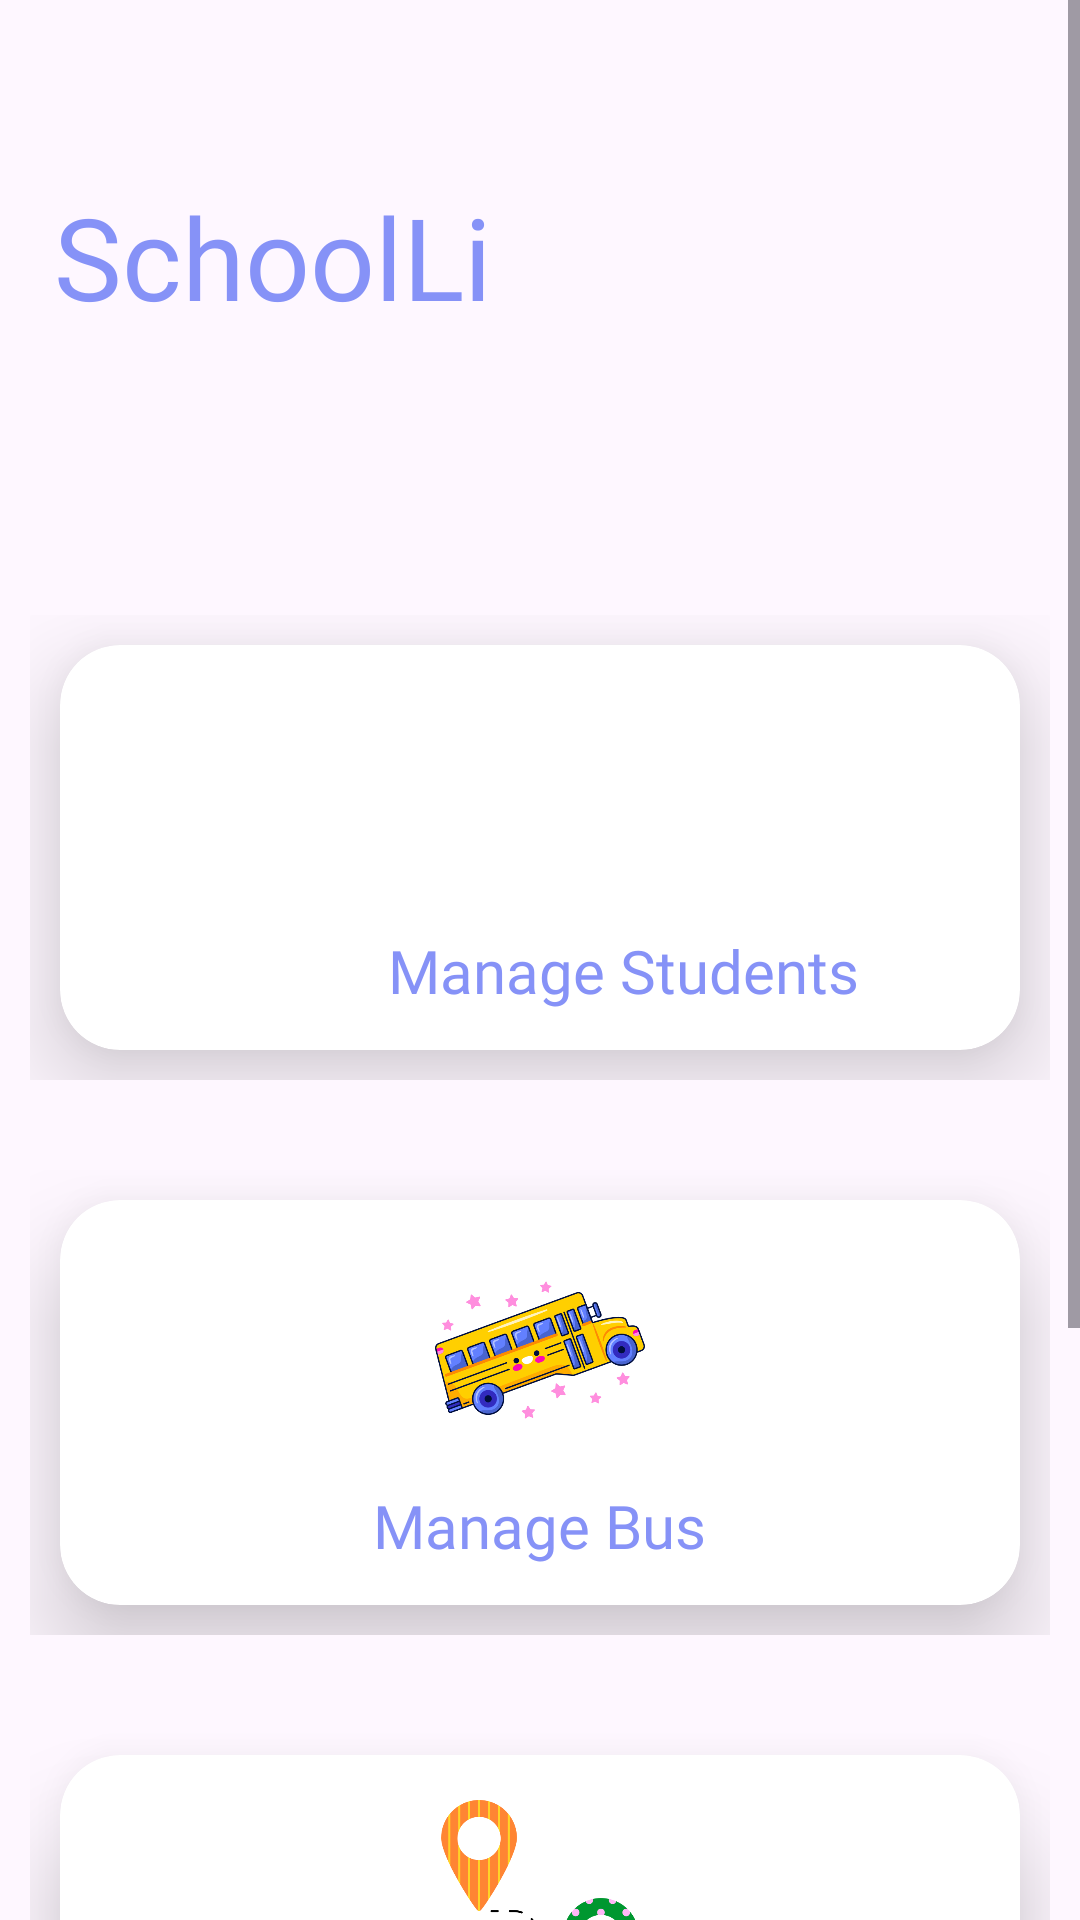

Icon click points for this 1080x1920 phone screenshot, format (x=x, y=y):
schoolbus: (x=540, y=1350)
